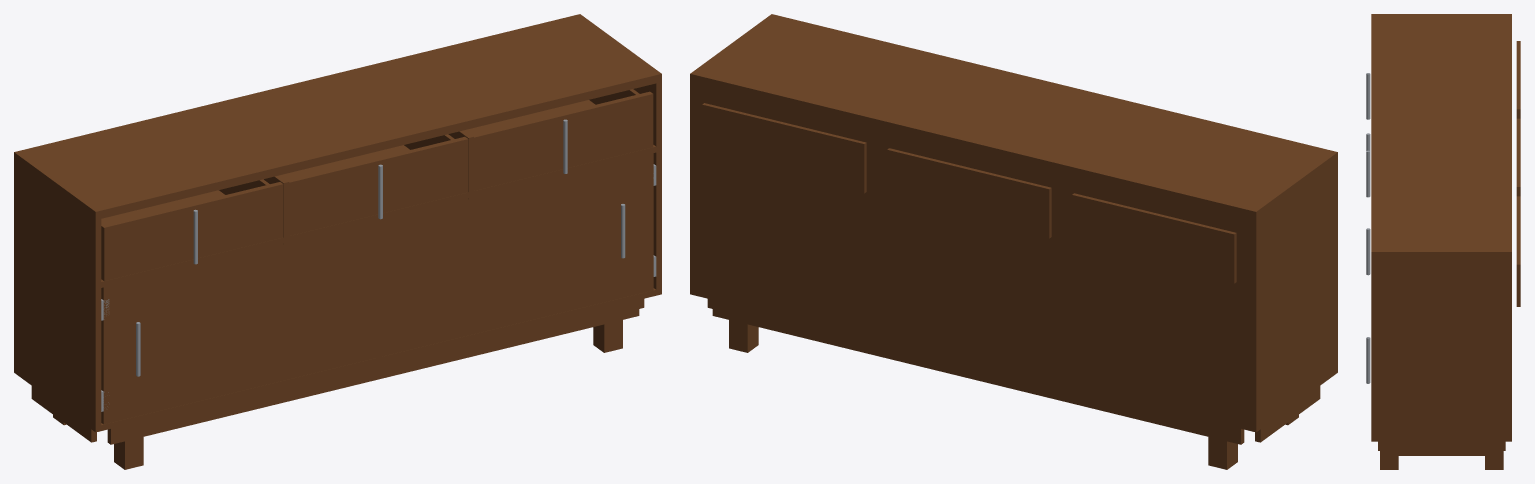
File: Oakley_sideboard.obj
3 renders of one model, left to right at view 1: azimuth 30°, elevation 25°; view 2: azimuth 150°, elevation 25°; view 3: azimuth 270°, elevation 25°, orthographic. The views are drawn at different scales.
Visible parts, largest first — view 1: top, door_1, door_2, carcass.side_1, drawer.front_1, drawer.front_3, drawer.front_2, rail.long_1, shelf.drawer, carcass.bottom, carcass.side_2, rail.short_1 (+3 smaller); view 2: carcass.back, top, carcass.side_1, rail.long_2, drawer.back_1, drawer.back_2, drawer.back_3, carcass.bottom, carcass.side_2, rail.short_1, leg_3, leg_4 (+1 smaller); view 3: top, carcass.side_2, rail.short_2, drawer.back_3, leg_2, drawer.back_2, leg_4, drawer.back_1, handle.drawer_2, handle.drawer_1, handle.drawer_3, handle.door_2.
Part boxes in pixels (bbox=[...]): top: bbox=[14, 14, 661, 219]; door_1: bbox=[101, 221, 375, 424]; door_2: bbox=[381, 153, 653, 356]; carcass.side_1: bbox=[14, 160, 101, 432]; drawer.front_1: bbox=[101, 182, 283, 281]; drawer.front_3: bbox=[472, 91, 653, 190]; drawer.front_2: bbox=[287, 136, 468, 235]; rail.long_1: bbox=[107, 300, 639, 444]; shelf.drawer: bbox=[101, 100, 656, 287]; carcass.bottom: bbox=[101, 288, 656, 430]; carcass.side_2: bbox=[633, 82, 661, 295]; rail.short_1: bbox=[31, 386, 96, 442]; carcass.back: bbox=[695, 83, 1250, 430]; top: bbox=[690, 14, 1337, 219]; carcass.side_1: bbox=[1250, 160, 1337, 432]; rail.long_2: bbox=[712, 300, 1244, 444]; drawer.back_1: bbox=[1072, 193, 1236, 283]; drawer.back_2: bbox=[887, 148, 1051, 238]; drawer.back_3: bbox=[702, 103, 866, 193]; carcass.bottom: bbox=[695, 290, 1250, 430]; carcass.side_2: bbox=[690, 82, 695, 295]; rail.short_1: bbox=[1255, 386, 1320, 442]; leg_3: bbox=[1208, 437, 1237, 469]; leg_4: bbox=[729, 320, 758, 352]; top: bbox=[1371, 14, 1511, 258]; carcass.side_2: bbox=[1371, 259, 1511, 441]; rail.short_2: bbox=[1390, 441, 1493, 455]; drawer.back_3: bbox=[1516, 196, 1520, 306]; leg_2: bbox=[1380, 441, 1398, 469]; drawer.back_2: bbox=[1516, 118, 1520, 196]; leg_4: bbox=[1485, 441, 1503, 469]; drawer.back_1: bbox=[1516, 41, 1520, 118]; handle.drawer_2: bbox=[1366, 150, 1370, 197]; handle.drawer_1: bbox=[1366, 73, 1370, 119]; handle.drawer_3: bbox=[1366, 228, 1370, 275]; handle.door_2: bbox=[1366, 337, 1370, 383].
Bounding box in the file's own units: 1.8 × 0.82 × 0.493.
